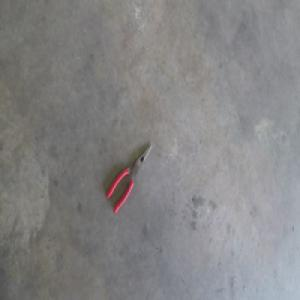Pliers: (106, 140, 153, 211)
